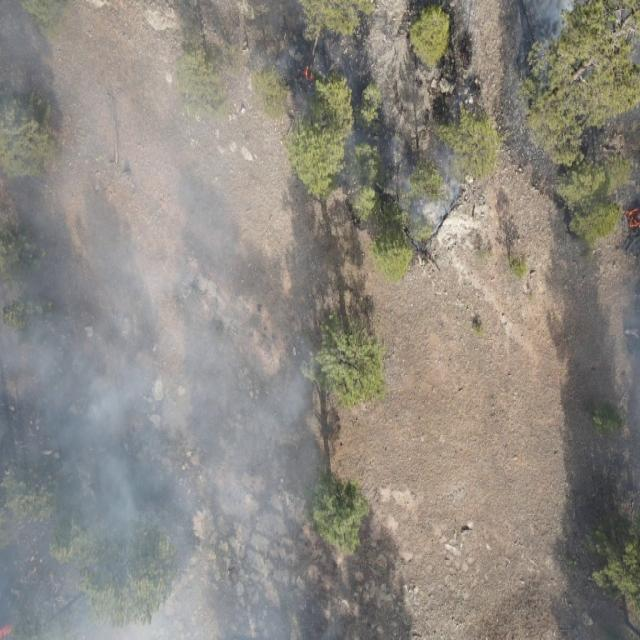fire: (624, 206, 640, 230), (0, 620, 16, 640), (302, 64, 317, 84)
smoke: (0, 0, 349, 640), (349, 113, 471, 232), (606, 195, 640, 495), (512, 0, 580, 84), (608, 27, 640, 88)
